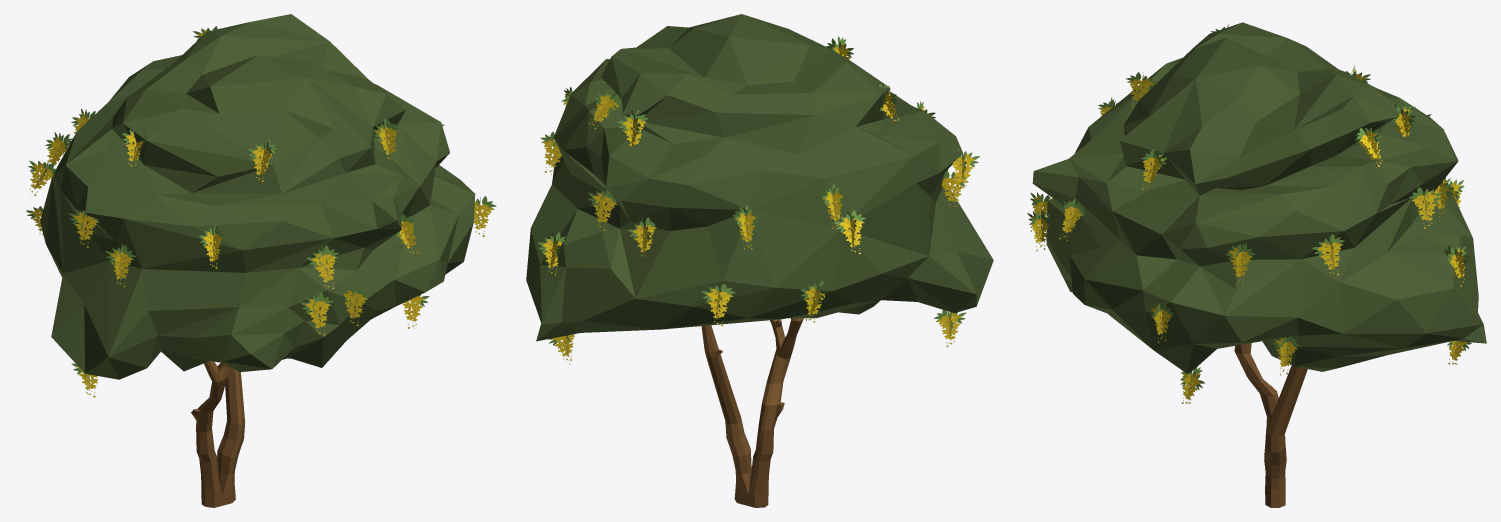
Rendered from tree3.glb.
3 renders of one model, left to right at view 1: azimuth 30°, elevation 25°; view 2: azimuth 150°, elevation 25°; view 3: azimuth 270°, elevation 25°, orthographic.
Parts seen in each view (by area): view 1: object 29, delh_foli_06_flower (2), delh_foli_06_flower (1), delh_foli_06_flower (4), delh_foli_06_flower (23), delh_foli_06_flower, delh_foli_06_flower (6), delh_foli_06_flower (13); view 2: object 29, delh_foli_06_flower (13), delh_foli_06_flower (22), delh_foli_06_flower (18), delh_foli_06_flower (9), delh_foli_06_flower (19), delh_foli_06_flower (17), delh_foli_06_flower (14), delh_foli_06_flower (20), delh_foli_06_flower (21), delh_foli_06_flower (25), delh_foli_06_flower (3); view 3: object 29, delh_foli_06_flower (18), delh_foli_06_flower (11), delh_foli_06_flower (20), delh_foli_06_flower (12), delh_foli_06_flower (23), delh_foli_06_flower (24), delh_foli_06_flower (29).
Part boxes in pixels (bbox=[...]): object 29: bbox=[40, 14, 475, 507]; delh_foli_06_flower (2): bbox=[306, 245, 338, 288]; delh_foli_06_flower (1): bbox=[300, 292, 332, 335]; delh_foli_06_flower (4): bbox=[105, 243, 135, 287]; delh_foli_06_flower (23): bbox=[373, 118, 399, 161]; delh_foli_06_flower: bbox=[342, 284, 370, 325]; delh_foli_06_flower (6): bbox=[248, 139, 277, 183]; delh_foli_06_flower (13): bbox=[28, 160, 56, 195]; object 29: bbox=[526, 14, 993, 507]; delh_foli_06_flower (13): bbox=[834, 210, 865, 254]; delh_foli_06_flower (22): bbox=[701, 284, 735, 326]; delh_foli_06_flower (18): bbox=[588, 189, 617, 230]; delh_foli_06_flower (9): bbox=[732, 205, 759, 249]; delh_foli_06_flower (19): bbox=[618, 109, 648, 146]; delh_foli_06_flower (17): bbox=[628, 216, 656, 257]; delh_foli_06_flower (14): bbox=[821, 183, 847, 228]; delh_foli_06_flower (20): bbox=[588, 90, 621, 129]; delh_foli_06_flower (21): bbox=[538, 231, 565, 275]; delh_foli_06_flower (25): bbox=[934, 310, 966, 347]; delh_foli_06_flower (3): bbox=[952, 147, 979, 190]; object 29: bbox=[1032, 22, 1486, 507]; delh_foli_06_flower (18): bbox=[1409, 187, 1442, 228]; delh_foli_06_flower (11): bbox=[1312, 234, 1344, 277]; delh_foli_06_flower (20): bbox=[1354, 128, 1382, 168]; delh_foli_06_flower (12): bbox=[1226, 243, 1254, 285]; delh_foli_06_flower (23): bbox=[1141, 149, 1166, 189]; delh_foli_06_flower (24): bbox=[1059, 198, 1084, 241]; delh_foli_06_flower (29): bbox=[1272, 336, 1299, 375].
Bounding box in the file's own units: 6.06 × 6.25 × 5.83.
3 materials, 1 textured.
